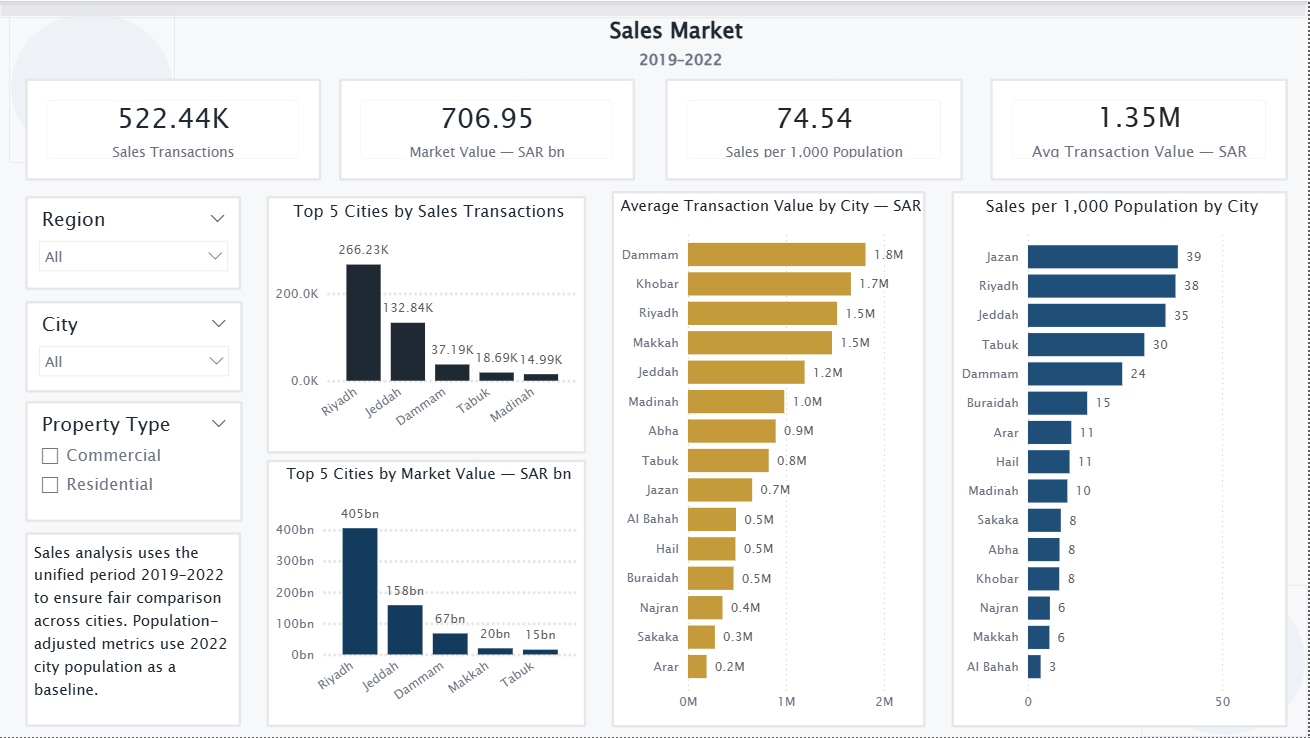

What the dashboard file says about the page in this screenshot:
{"tool":"powerbi","page":{"name":"Sales Market 2019-2022","canvas":[1280,720],"ordinal":1},"visuals":[{"type":"shape","box":[1117.7,571.1,162.6,149.2],"z":0},{"type":"shape","box":[10,10,162.6,149.2],"z":1000},{"type":"cardVisual","fields":{"Data":["fact_real_estate_quarterly.Sales Transactions 2019-2022"]},"box":[25.7,75.8,289.8,100.3],"z":2000},{"type":"cardVisual","fields":{"Data":["fact_real_estate_quarterly.Market Value Billion 2019-2022"]},"box":[332.6,75.8,289.8,100.3],"z":3000},{"type":"cardVisual","fields":{"Data":["fact_real_estate_quarterly.Sales per 1,000 Pop 2019-2022"]},"box":[651.8,75.8,291,100.3],"z":4000},{"type":"cardVisual","fields":{"Data":["fact_real_estate_quarterly.Average Transaction Value 2019-2022"]},"box":[969.7,75.8,291,100.3],"z":5000},{"type":"clusteredColumnChart","title":"Top 5 Cities by Sales Transactions","fields":{"Category":["dim_city.city"],"Y":["fact_real_estate_quarterly.Sales Transactions 2019-2022"]},"box":[261.7,190.8,313,251.9],"z":6000},{"type":"clusteredColumnChart","title":"Top 5 Cities by Market Value — SAR bn","fields":{"Category":["dim_city.city"],"Y":["fact_real_estate_quarterly.Market Value 2019-2022"]},"box":[261.7,448.8,313,261.7],"z":7000},{"type":"clusteredBarChart","title":"Average Transaction Value by City — SAR","fields":{"Category":["dim_city.city"],"Y":["fact_real_estate_quarterly.Average Transaction Value 2019-2022"]},"box":[599.2,185.9,306.9,524.6],"z":8000},{"type":"clusteredBarChart","title":"Sales per 1,000 Population by City","fields":{"Category":["dim_city.city"],"Y":["fact_real_estate_quarterly.Sales per 1,000 Pop 2019-2022"]},"box":[931.8,185.9,328.9,524.6],"z":9000},{"type":"slicer","fields":{"Values":["dim_city.region_en"]},"box":[25.7,190.8,211.6,91.7],"z":10000},{"type":"slicer","fields":{"Values":["dim_city.city"]},"box":[25.7,293.5,212.8,89.3],"z":11000},{"type":"slicer","fields":{"Values":["dim_property_type.property_type"]},"box":[25.7,391.3,212.8,118.6],"z":12000},{"type":"textbox","box":[25.7,519.7,211.6,190.8],"z":13000},{"type":"textbox","box":[517.3,8.6,299.6,67.3],"z":14000},{"type":"shape","box":[0,0,1280.3,17.1],"z":15000}]}

Visuals, with their boxes in screenshot pixels (x1, y1, x2, y2), scaled from the page's 1280x720 canvas onto the 1310x738 screenshot:
shape: <region>1144, 585, 1309, 737</region>
shape: <region>10, 10, 177, 163</region>
cardVisual - fact_real_estate_quarterly.Sales Transactions 2019-2022: <region>26, 78, 323, 181</region>
cardVisual - fact_real_estate_quarterly.Market Value Billion 2019-2022: <region>340, 78, 637, 181</region>
cardVisual - fact_real_estate_quarterly.Sales per 1,000 Pop 2019-2022: <region>667, 78, 965, 181</region>
cardVisual - fact_real_estate_quarterly.Average Transaction Value 2019-2022: <region>992, 78, 1290, 181</region>
"Top 5 Cities by Sales Transactions" clusteredColumnChart: <region>268, 196, 588, 454</region>
"Top 5 Cities by Market Value — SAR bn" clusteredColumnChart: <region>268, 460, 588, 728</region>
"Average Transaction Value by City — SAR" clusteredBarChart: <region>613, 191, 927, 728</region>
"Sales per 1,000 Population by City" clusteredBarChart: <region>954, 191, 1290, 728</region>
slicer - dim_city.region_en: <region>26, 196, 243, 290</region>
slicer - dim_city.city: <region>26, 301, 244, 392</region>
slicer - dim_property_type.property_type: <region>26, 401, 244, 523</region>
textbox: <region>26, 533, 243, 728</region>
textbox: <region>529, 9, 836, 78</region>
shape: <region>0, 0, 1309, 18</region>
